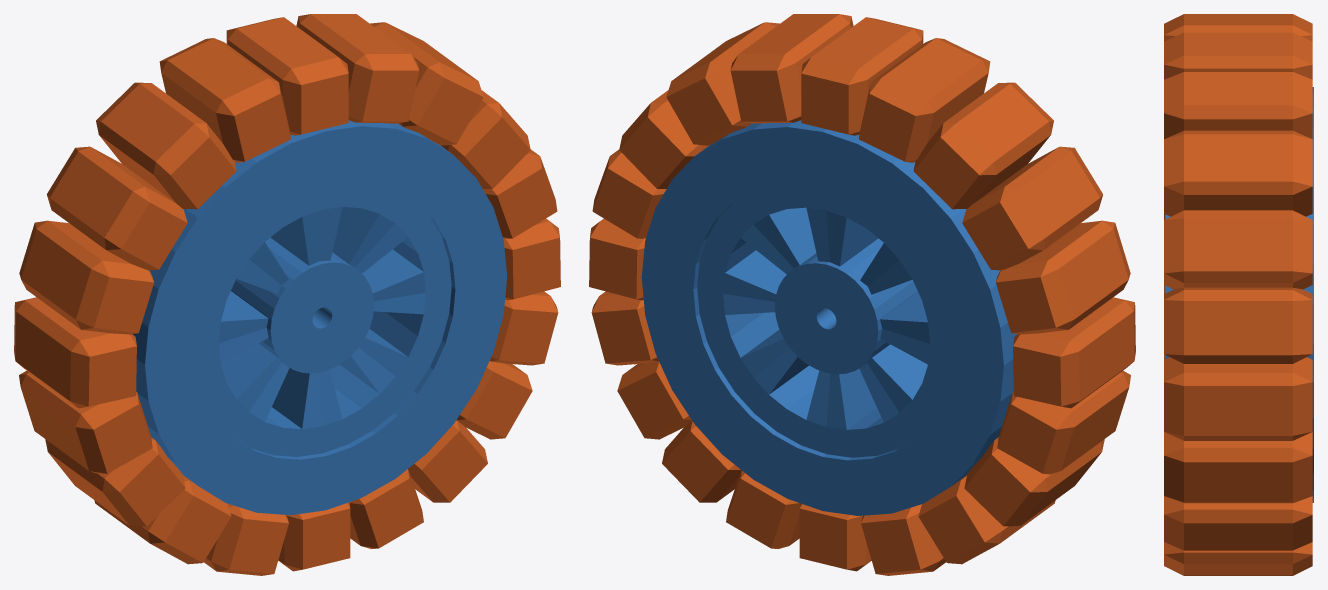
Rendered from atomic_generator.glb.
3 views of the same model, side by side, from view 1: azimuth 30°, elevation 25°; view 2: azimuth 150°, elevation 25°; view 3: azimuth 270°, elevation 25° (orthographic).
Parts seen in each view (by area): view 1: magnetic pole, rotor yoke, rotor support; view 2: magnetic pole, rotor yoke, rotor support; view 3: magnetic pole, rotor yoke.
Boxes of the visible parts, box(x1,y1,x2,y2) form: magnetic pole: box(14, 14, 560, 575); rotor yoke: box(132, 120, 507, 515); rotor support: box(196, 182, 451, 456); magnetic pole: box(589, 14, 1135, 575); rotor yoke: box(641, 120, 1017, 515); rotor support: box(697, 182, 951, 457); magnetic pole: box(1164, 14, 1312, 575); rotor yoke: box(1165, 87, 1313, 502).
Bounding box in the file's own units: 0.2403 × 0.236 × 0.064.
